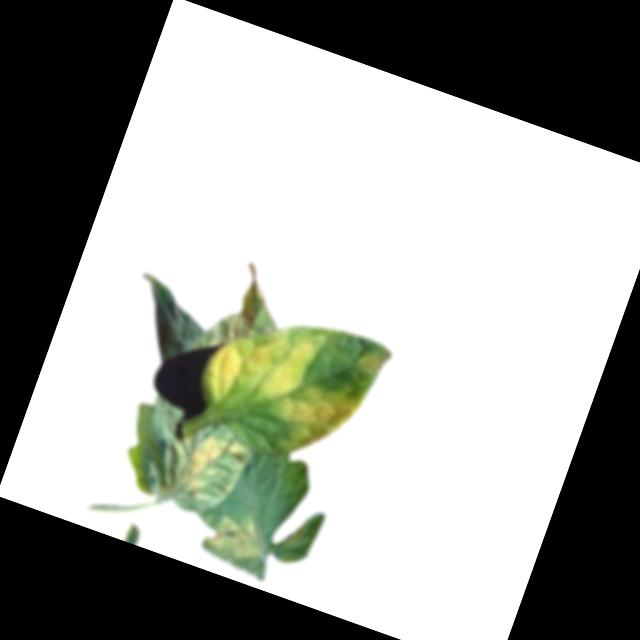Leaf_Mold: (185, 297, 389, 475), (158, 415, 254, 517), (206, 507, 271, 567)
